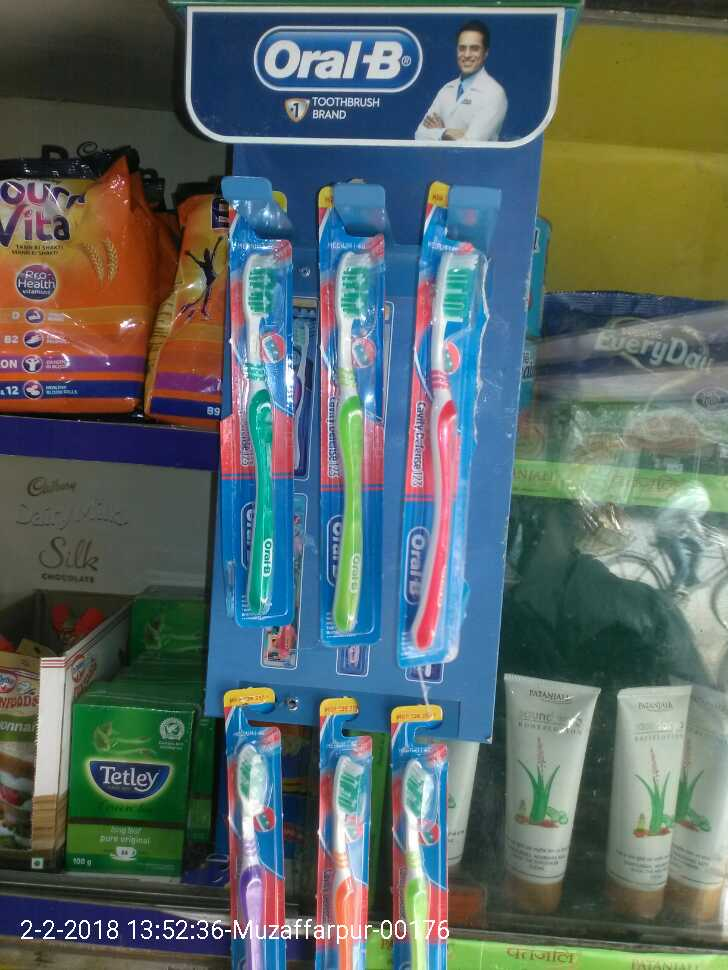oralb: (308, 218, 383, 637), (406, 210, 471, 666), (239, 238, 308, 643), (380, 729, 454, 966)
